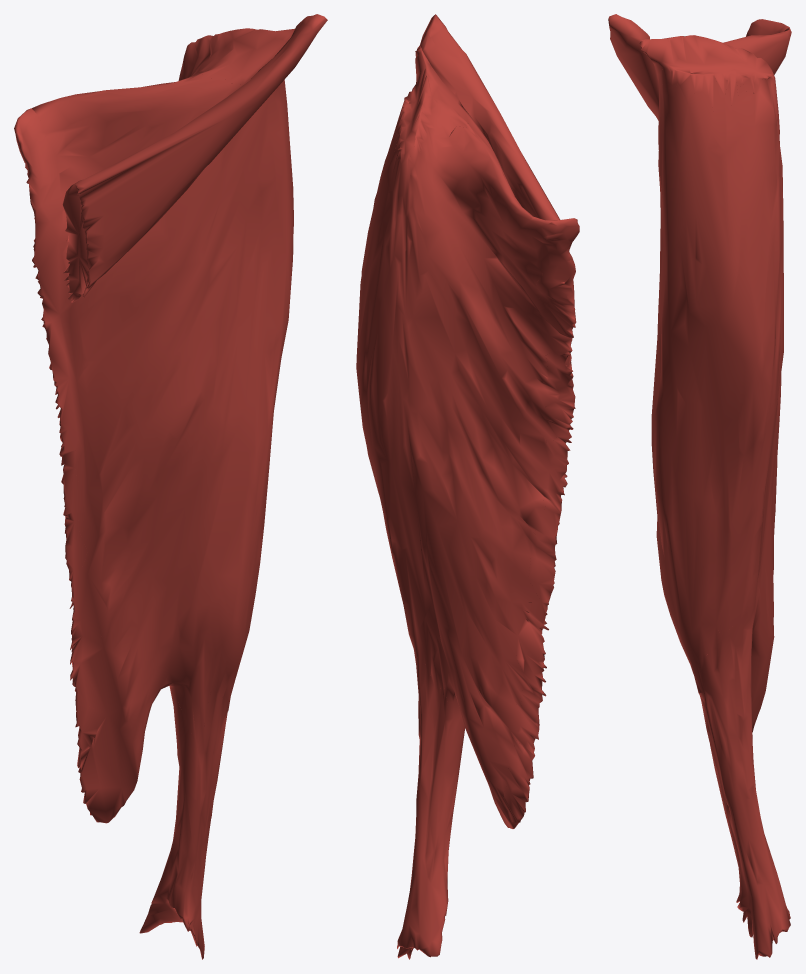
The model's file is musculos-adductor-magnus-r.glb.
3 renders of one model, left to right at view 1: azimuth 30°, elevation 25°; view 2: azimuth 150°, elevation 25°; view 3: azimuth 270°, elevation 25°, orthographic. The views are drawn at different scales.
Visible parts, largest first — view 1: Adductor magnus.r, (Adductor minimus).r; view 2: Adductor magnus.r, (Adductor minimus).r; view 3: Adductor magnus.r, (Adductor minimus).r.
Part boxes in pixels (x1,y1,x2,y2): Adductor magnus.r: (14, 28, 294, 959); (Adductor minimus).r: (62, 14, 327, 302); Adductor magnus.r: (356, 45, 579, 959); (Adductor minimus).r: (420, 14, 560, 220); Adductor magnus.r: (639, 19, 791, 959); (Adductor minimus).r: (608, 14, 658, 120).
Size of the model in its own units: 0.0975 by 0.3668 by 0.0631.
